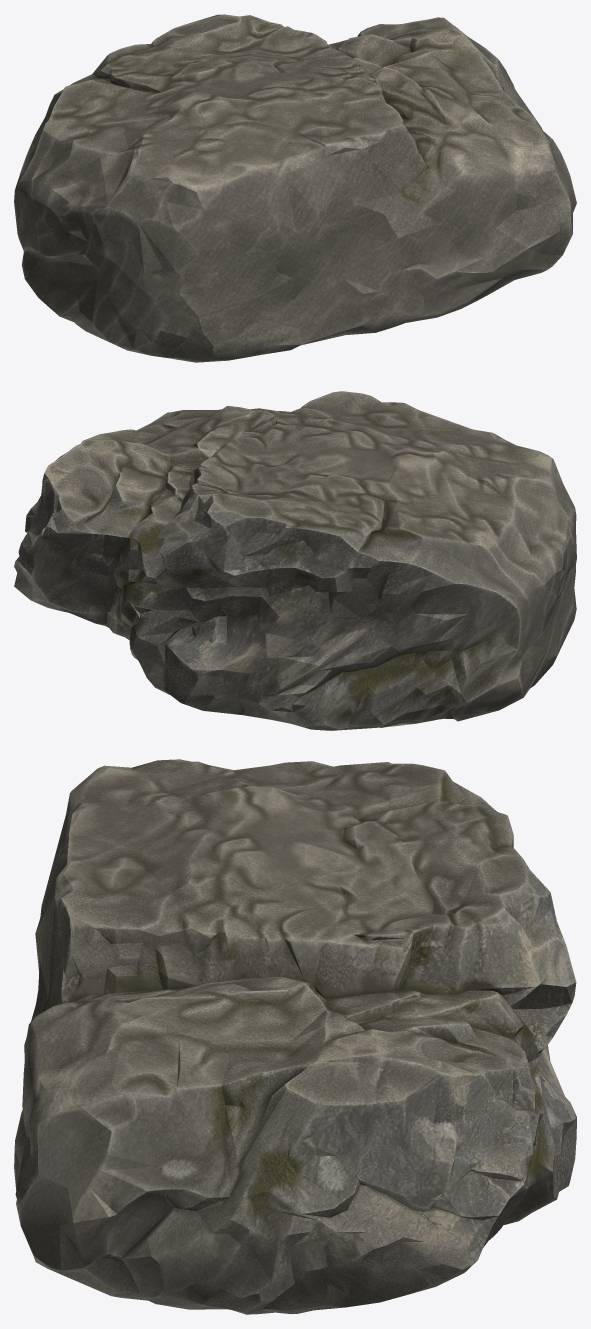
File: mossy-boulder-5.glb
3 views of the same model, one above another, from view 1: azimuth 30°, elevation 25°; view 2: azimuth 150°, elevation 25°; view 3: azimuth 270°, elevation 25° (orthographic). The views are drawn at different scales.
Visible parts, largest first — view 1: output_unwrapped; view 2: output_unwrapped; view 3: output_unwrapped.
Part boxes in pixels (<box>): output_unwrapped: <box>14,14,576,362</box>; output_unwrapped: <box>14,391,576,730</box>; output_unwrapped: <box>14,759,576,1314</box>.
Bounding box in the file's own units: 1 × 0.4155 × 0.67.
Materials: 1 (1 with a texture image).
